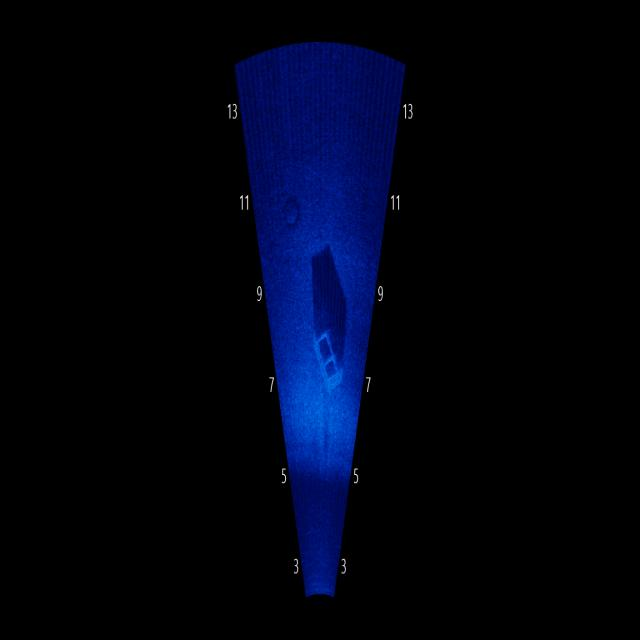square: (303, 306, 346, 416)
